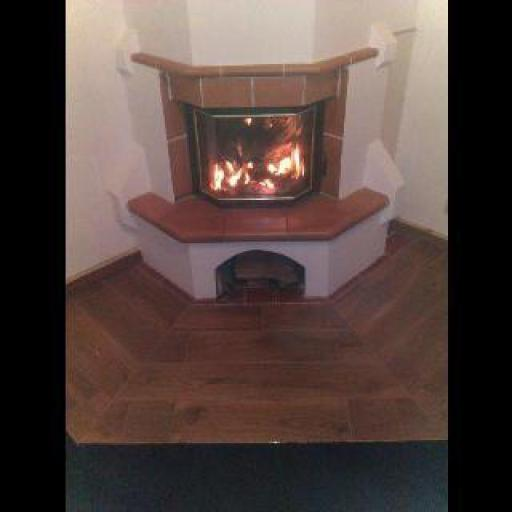smoke: (200, 104, 310, 198)
